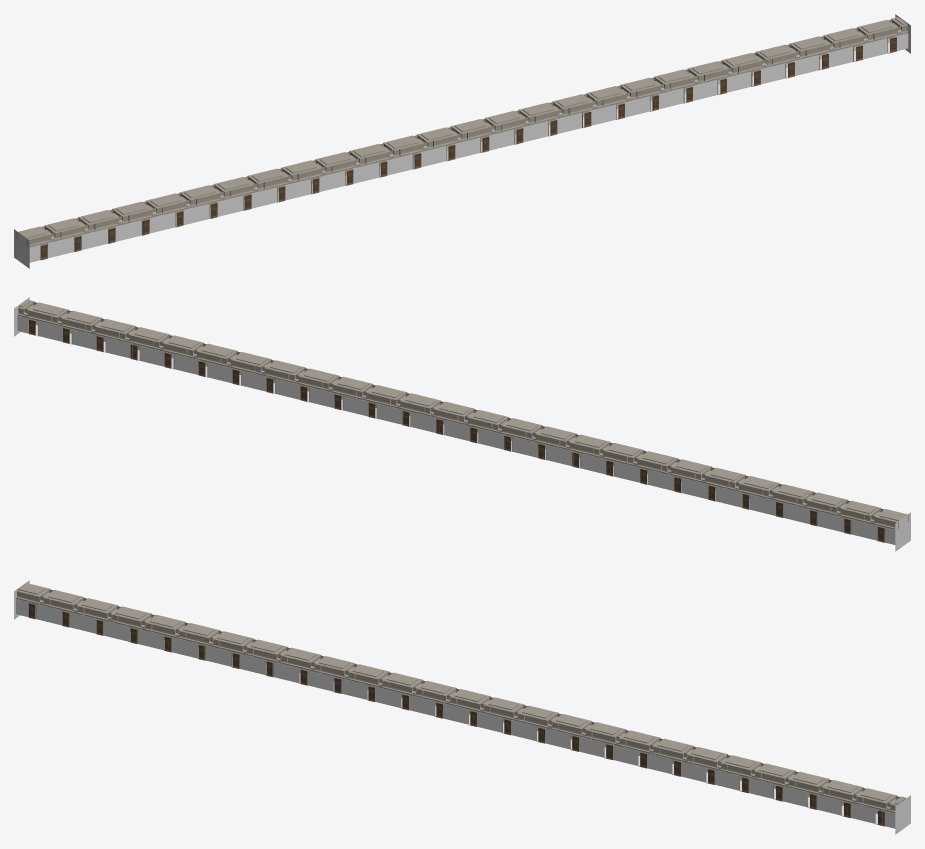
Rendered from koridor.fbx.
The picture shows the model from 3 angles, top to bottom: view 1: azimuth 30°, elevation 25°; view 2: azimuth 150°, elevation 25°; view 3: azimuth 330°, elevation 25°; orthographic projection.
Visible parts, largest first — view 1: Cube; view 2: Cube; view 3: Cube.
Part boxes in pixels (x1=…): Cube: x1=16, y1=17, x2=908, y2=262; Cube: x1=17, y1=300, x2=908, y2=544; Cube: x1=16, y1=583, x2=906, y2=828.
Size of the model in its own units: 28037 by 865 by 865.
